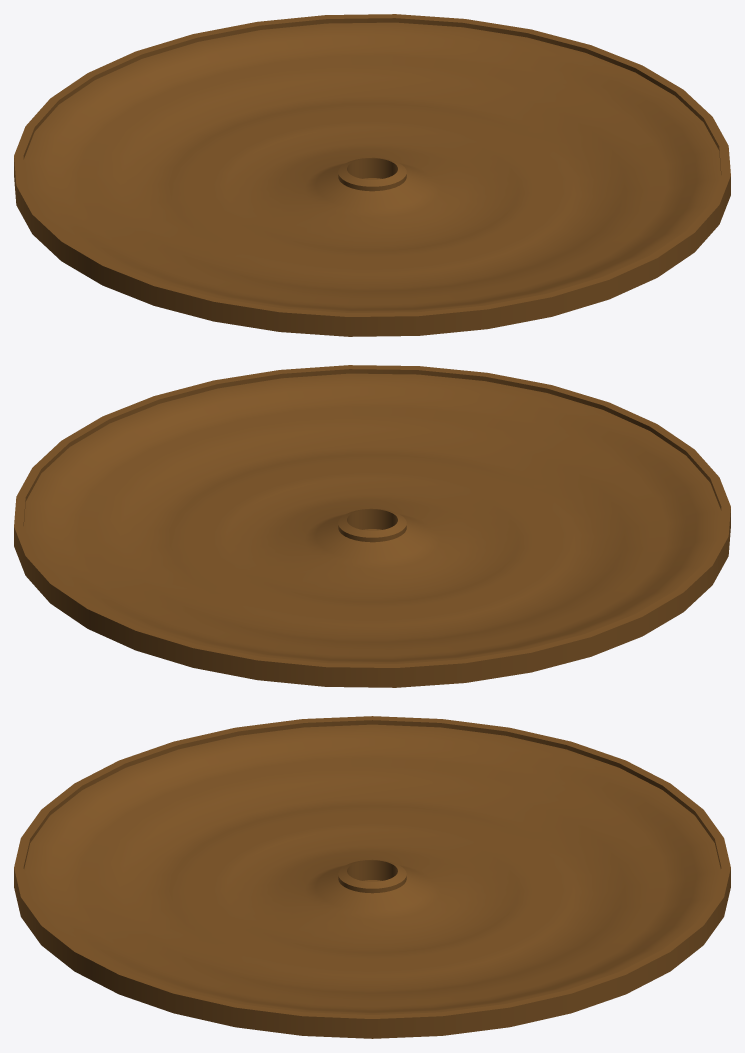
Rendered from Stadium3.fbx.
3 views of the same model, one above another, from view 1: azimuth 30°, elevation 25°; view 2: azimuth 150°, elevation 25°; view 3: azimuth 270°, elevation 25° (orthographic).
Parts seen in each view (by area): view 1: Cube.001; view 2: Cube.001; view 3: Cube.001.
Part boxes in pixels (bbox=[...]): Cube.001: bbox=[14, 14, 730, 336]; Cube.001: bbox=[14, 365, 730, 687]; Cube.001: bbox=[14, 716, 730, 1038].
Bounding box in the file's own units: 153 × 15.31 × 153.
